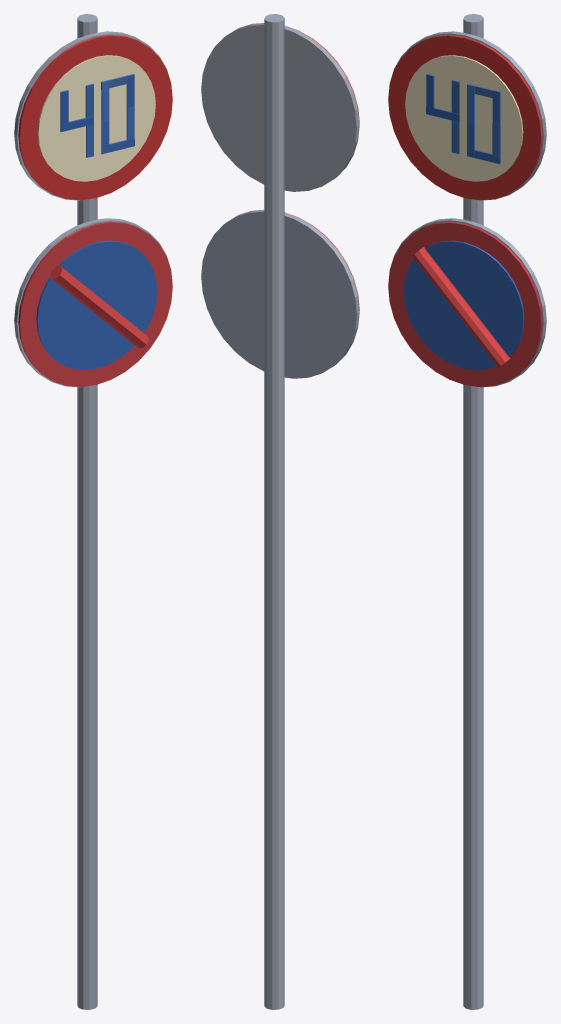
The model's file is HK_Sign_Paired40.lod.glb.
The picture shows the model from 3 angles, left to right: view 1: azimuth 30°, elevation 25°; view 2: azimuth 150°, elevation 25°; view 3: azimuth 330°, elevation 25°; orthographic projection.
Visible parts, largest first — view 1: HK_Sign_Paired40; view 2: HK_Sign_Paired40; view 3: HK_Sign_Paired40.
Boxes of the visible parts, bbox=[...] form: HK_Sign_Paired40: bbox=[14, 14, 172, 1009]; HK_Sign_Paired40: bbox=[201, 14, 359, 1009]; HK_Sign_Paired40: bbox=[388, 14, 546, 1009].
Bounding box in the file's own units: 0.61 × 3.7 × 0.1413.
